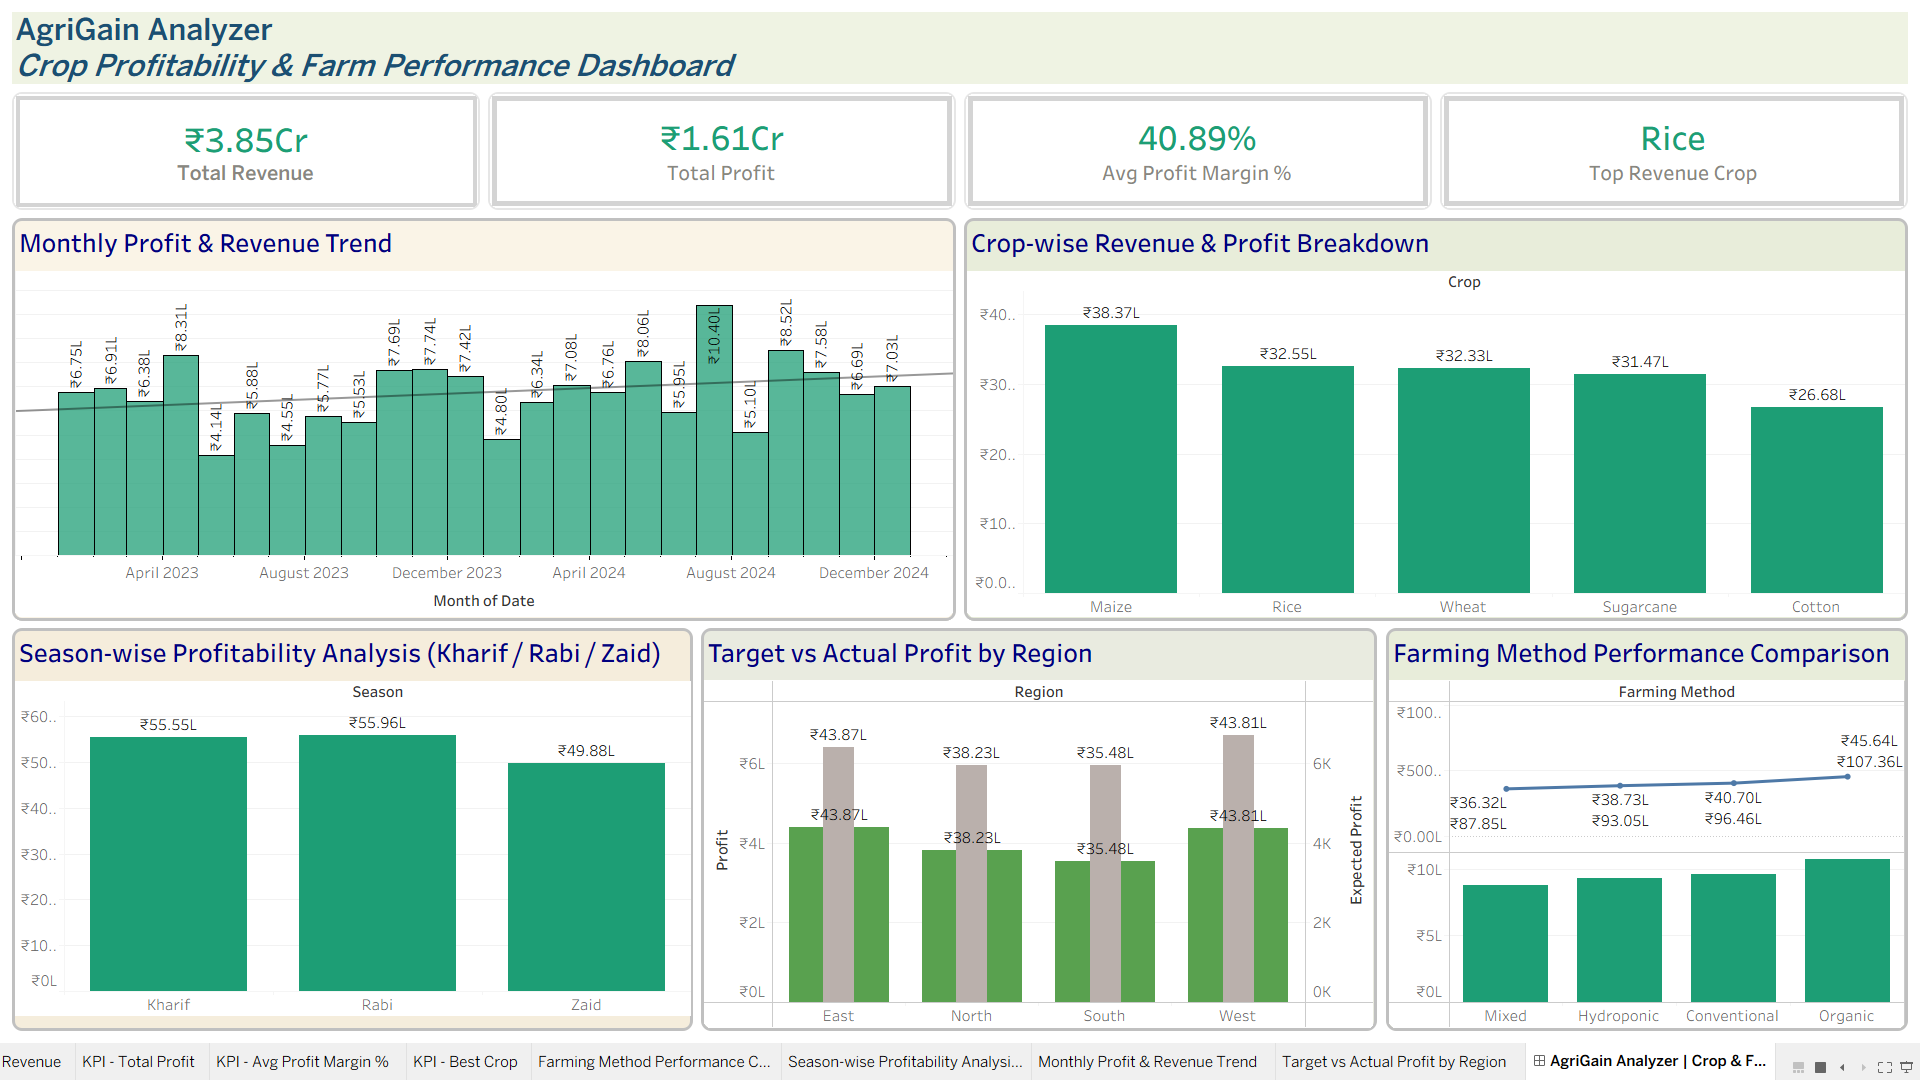

This screenshot's page, from the dashboard's own definition file:
{"tool":"tableau","page":{"name":"AgriGain Analyzer | Crop & Farm Profitability Dashboard","canvas":[1000,1000],"units":"permille","ordinal":0},"visuals":[{"type":"title","box":[4.8,8.8,990.3,87.9]},{"type":"worksheet","title":"KPI - Total Revenue","mark":"Automatic","box":[4.8,96.7,248,118.7]},{"type":"worksheet","title":"KPI - Total Profit","mark":"Text","box":[252.9,96.7,247.4,118.7]},{"type":"worksheet","title":"KPI - Avg Profit Margin %","mark":"Text","box":[500.3,96.7,247.4,118.7]},{"type":"worksheet","title":"KPI - Best Crop","mark":"Text","box":[747.7,96.7,247.4,118.7]},{"type":"worksheet","title":"Monthly Profit & Revenue Trend","mark":"Bar","rows":["Profit"],"cols":["Date"],"box":[4.8,215.6,495.1,387.8]},{"type":"worksheet","title":"Crop-wise Revenue & Profit Breakdown","mark":"Automatic","rows":["Profit"],"cols":["Crop"],"box":[499.9,215.6,495.2,387.8]},{"type":"worksheet","title":"Season-wise Profitability Analysis (Kharif / Rabi / Zaid)","mark":"Bar","rows":["Profit"],"cols":["Season"],"box":[4.8,603.4,358.6,387.8]},{"type":"worksheet","title":"Target vs Actual Profit by Region","mark":"Bar","rows":["Profit","Calculation_155092743493382145"],"cols":["Region"],"box":[363.5,603.4,355.9,387.8]},{"type":"worksheet","title":"Farming Method Performance Comparison","mark":"Automatic","rows":["Profit","Revenue"],"cols":["Farming Method"],"box":[719.4,603.4,275.8,387.8]}]}

Visuals, with their boxes on the dashboard's canvas, which has no fixed pixel size, in thousandths of its width and height (x1, y1, x2, y2). These are canvas units, not pixel positions in the 1920x1080 screenshot, which may show the page scaled, cropped or inside an application window:
title: 5:9:995:97
"KPI - Total Revenue" worksheet: 5:97:253:215
"KPI - Total Profit" worksheet (Text marks): 253:97:500:215
"KPI - Avg Profit Margin %" worksheet (Text marks): 500:97:748:215
"KPI - Best Crop" worksheet (Text marks): 748:97:995:215
"Monthly Profit & Revenue Trend" worksheet (Bar marks): 5:216:500:603
"Crop-wise Revenue & Profit Breakdown" worksheet: 500:216:995:603
"Season-wise Profitability Analysis (Kharif / Rabi / Zaid)" worksheet (Bar marks): 5:603:363:991
"Target vs Actual Profit by Region" worksheet (Bar marks): 364:603:719:991
"Farming Method Performance Comparison" worksheet: 719:603:995:991
